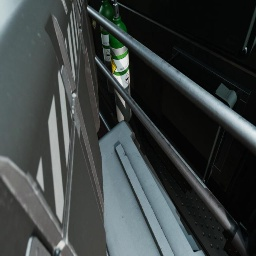0: (109, 0, 131, 122), (99, 0, 115, 94)
NitrogenTank ,: (87, 0, 98, 57)
